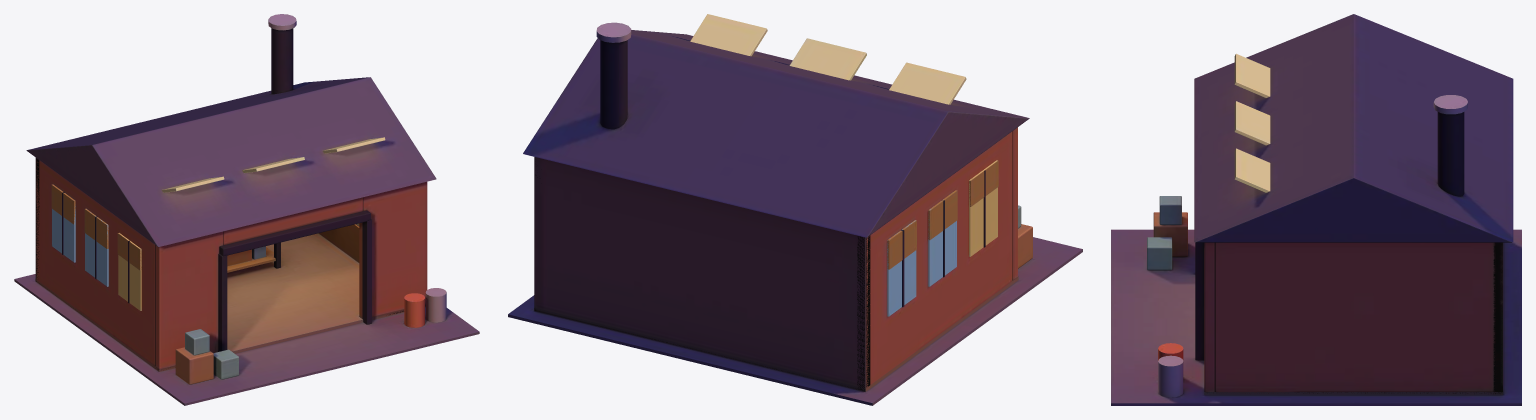
The model's file is workshop.glb.
3 renders of one model, left to right at view 1: azimuth 30°, elevation 25°; view 2: azimuth 150°, elevation 25°; view 3: azimuth 270°, elevation 25°, orthographic. The views are drawn at different scales.
Parts seen in each view (by area): view 1: workshop; view 2: workshop; view 3: workshop.
Part boxes in pixels (x1=…): workshop: x1=14, y1=14, x2=479, y2=405; workshop: x1=508, y1=14, x2=1082, y2=405; workshop: x1=1111, y1=14, x2=1521, y2=405.
Bounding box in the file's own units: 5.5 × 4 × 5.5.
Materials: 1 (1 with a texture image).
